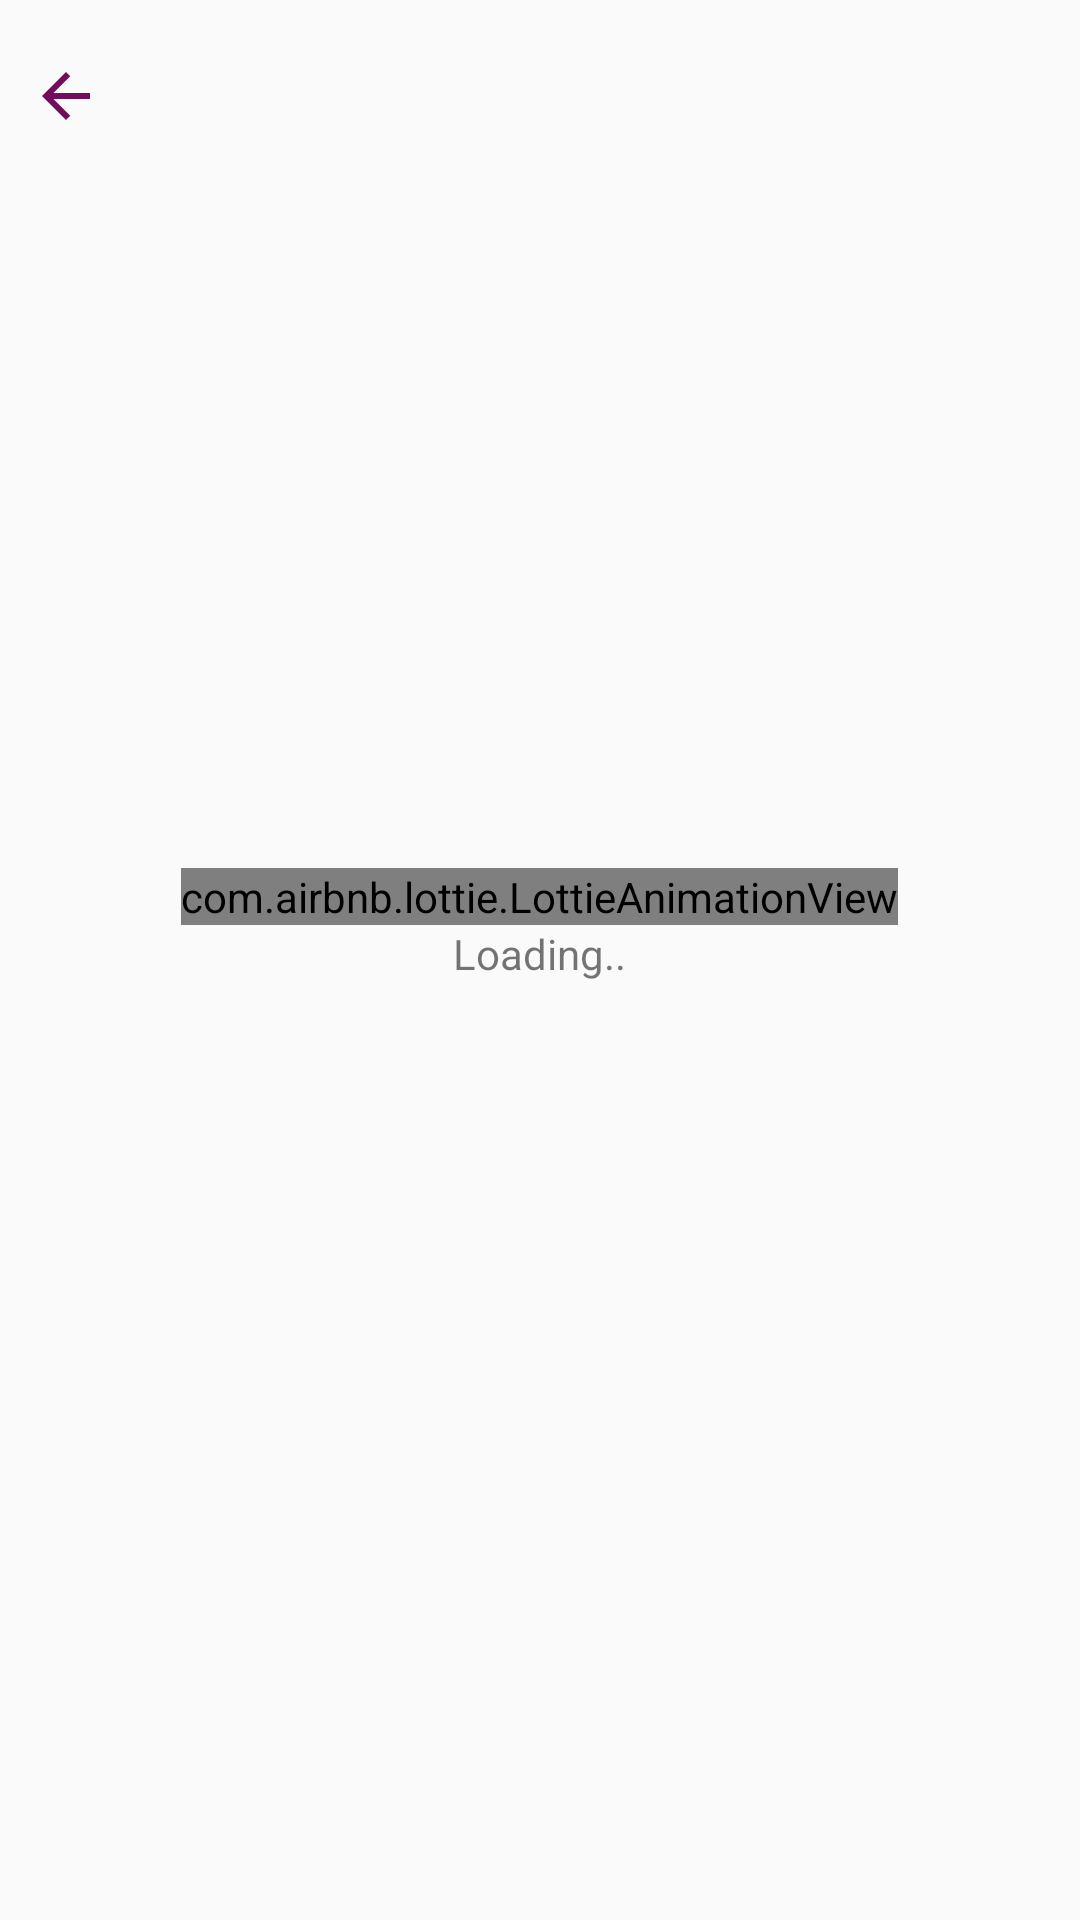

Named icons in this screenshot (1080*1920) and their centers, [x,y]:
arrow back: [66,96]
